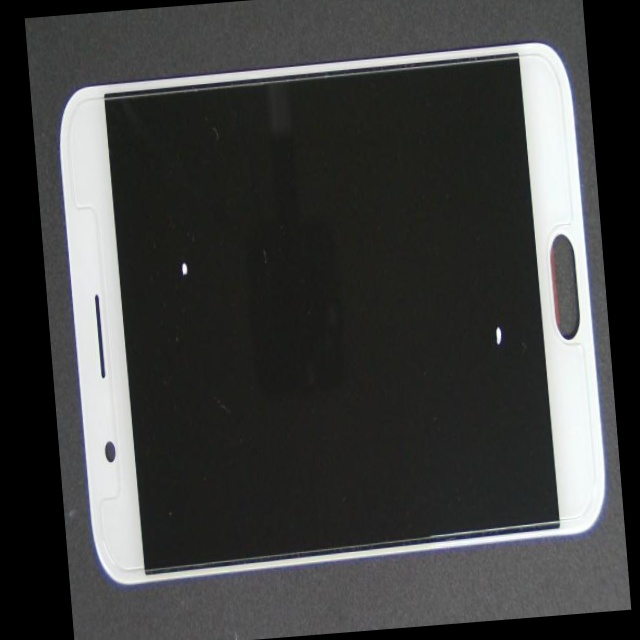stain: (268, 101, 620, 492), (129, 150, 277, 380)
